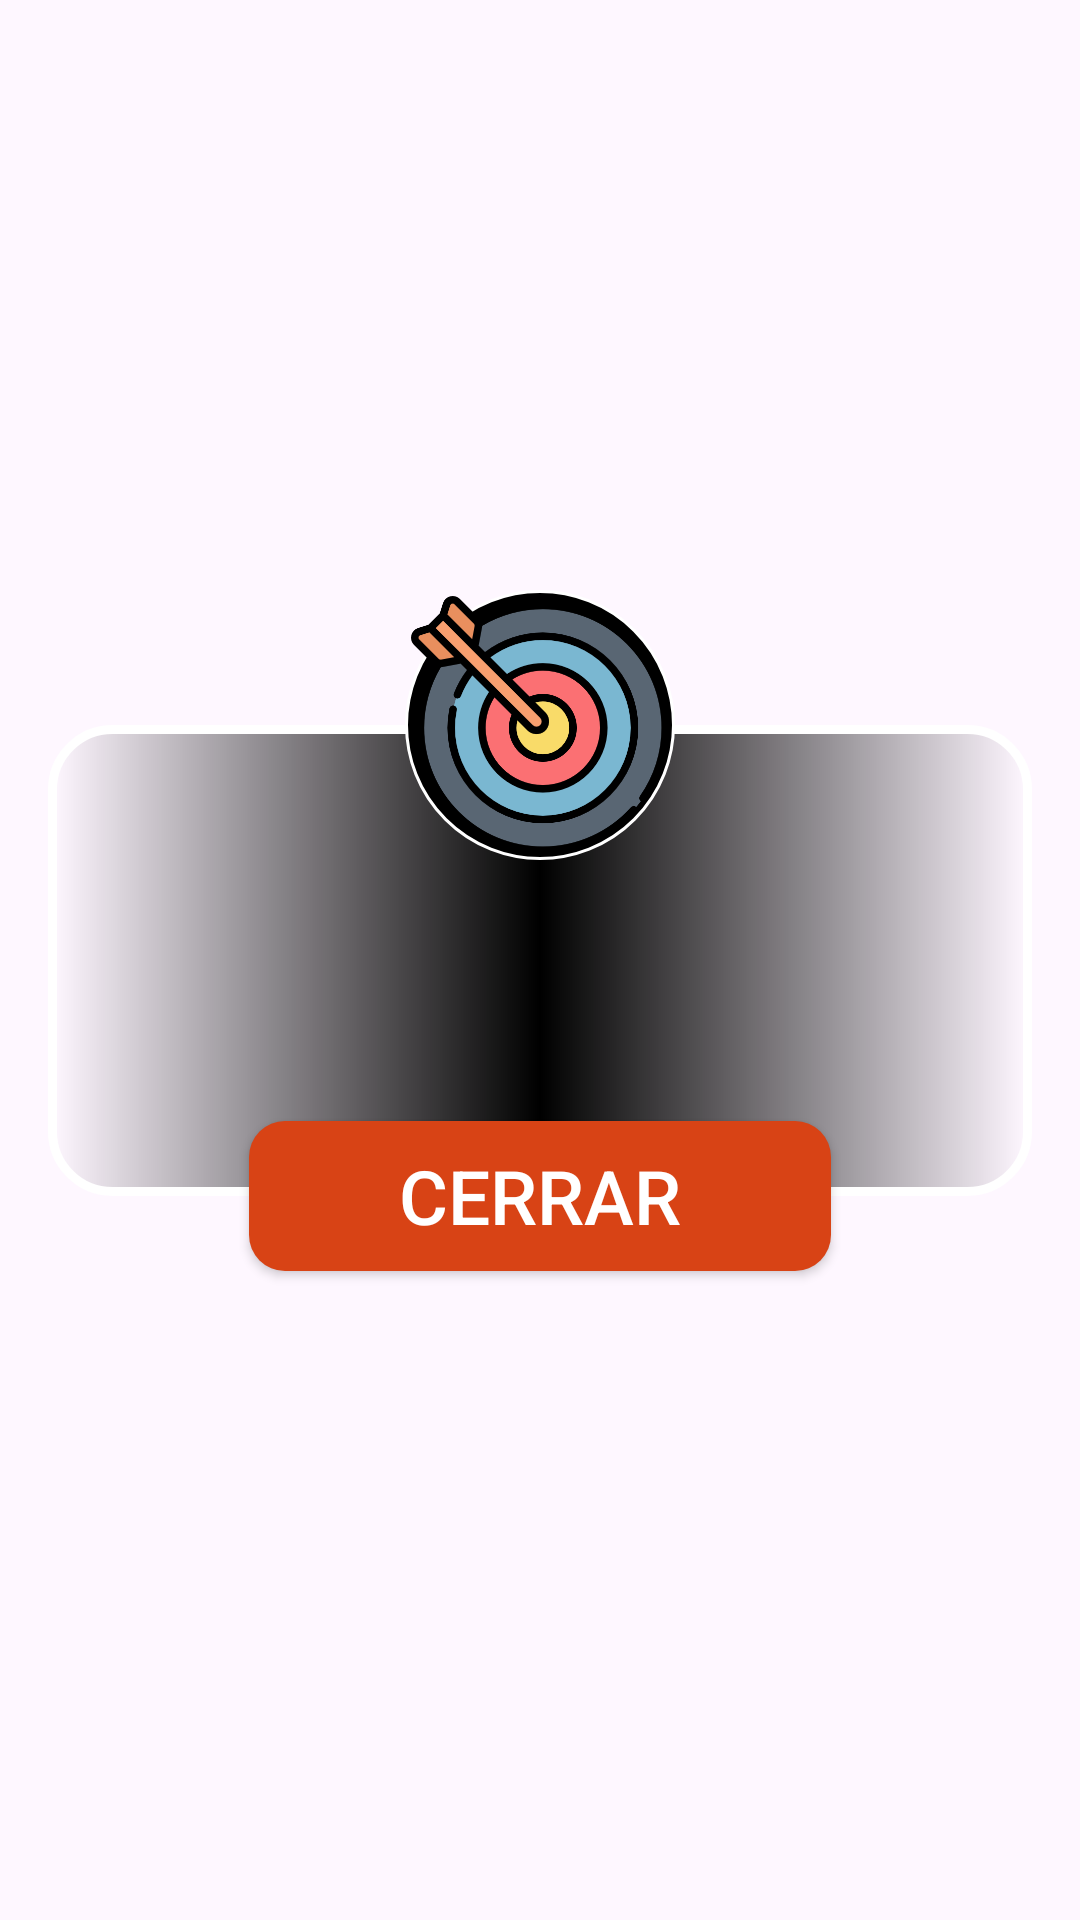

Where to tap for icons on this 1080x1920 app screen, as point (x, y):
imgreto: point (540, 725)
